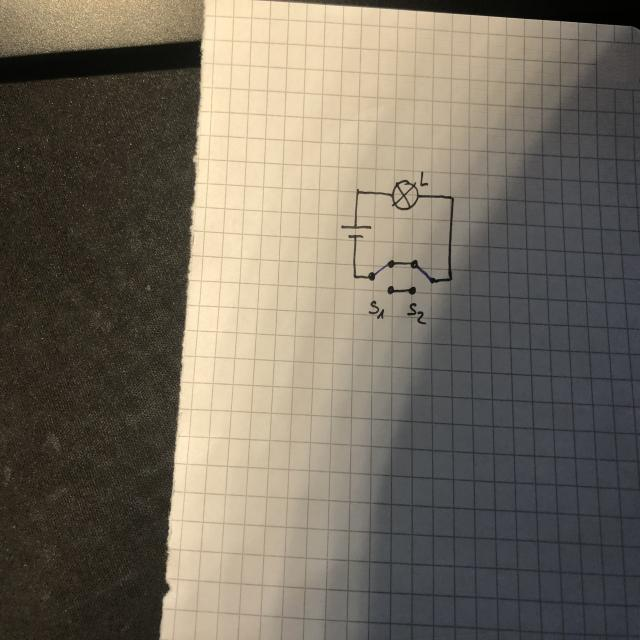junction: (446, 272, 456, 283), (448, 193, 458, 204), (353, 186, 362, 198), (350, 270, 359, 281)
source: (338, 222, 373, 239)
switch: (406, 259, 436, 296), (367, 258, 395, 296)
text: (406, 302, 427, 326), (368, 299, 384, 321), (419, 170, 428, 188)
